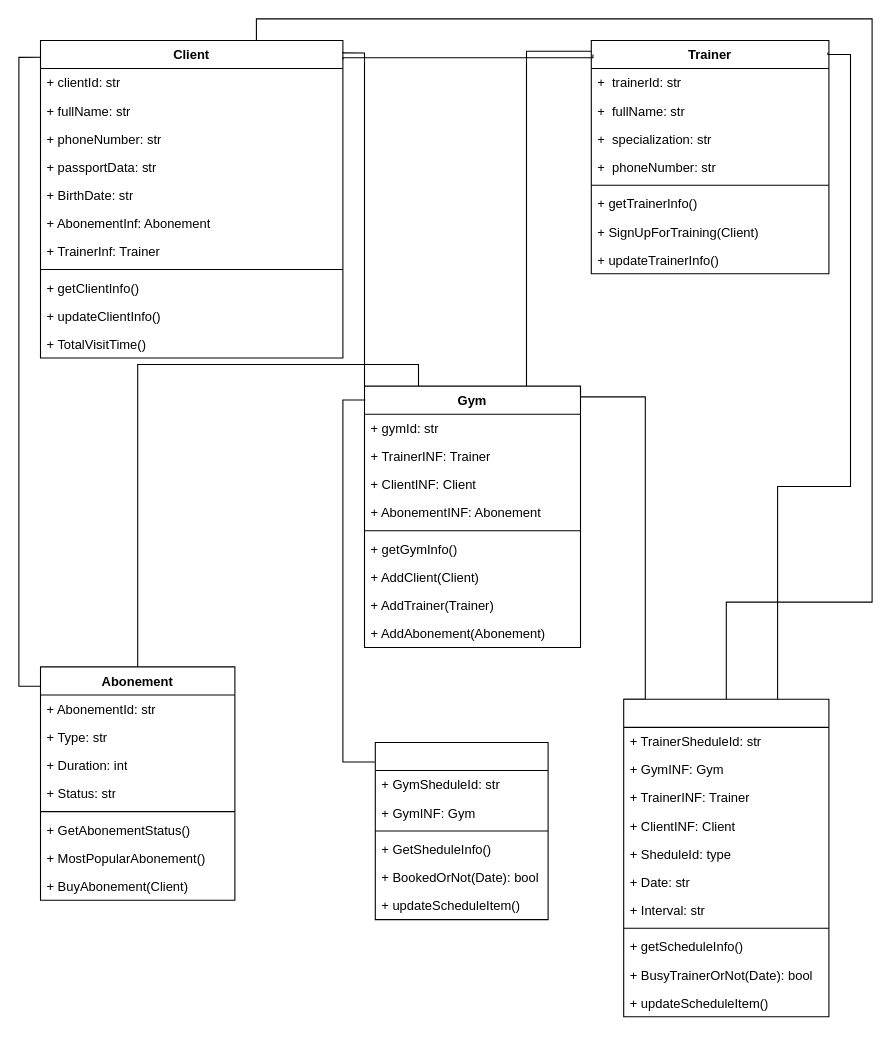
Image size: 892x1039. Some labels were removed from this diagram. Here are the shapes that lost their labels. From the top down, the box of each, then its label:
(374, 741, 548, 920): GymSheduleItem
(623, 698, 829, 1017): TrainerSheduleItem
